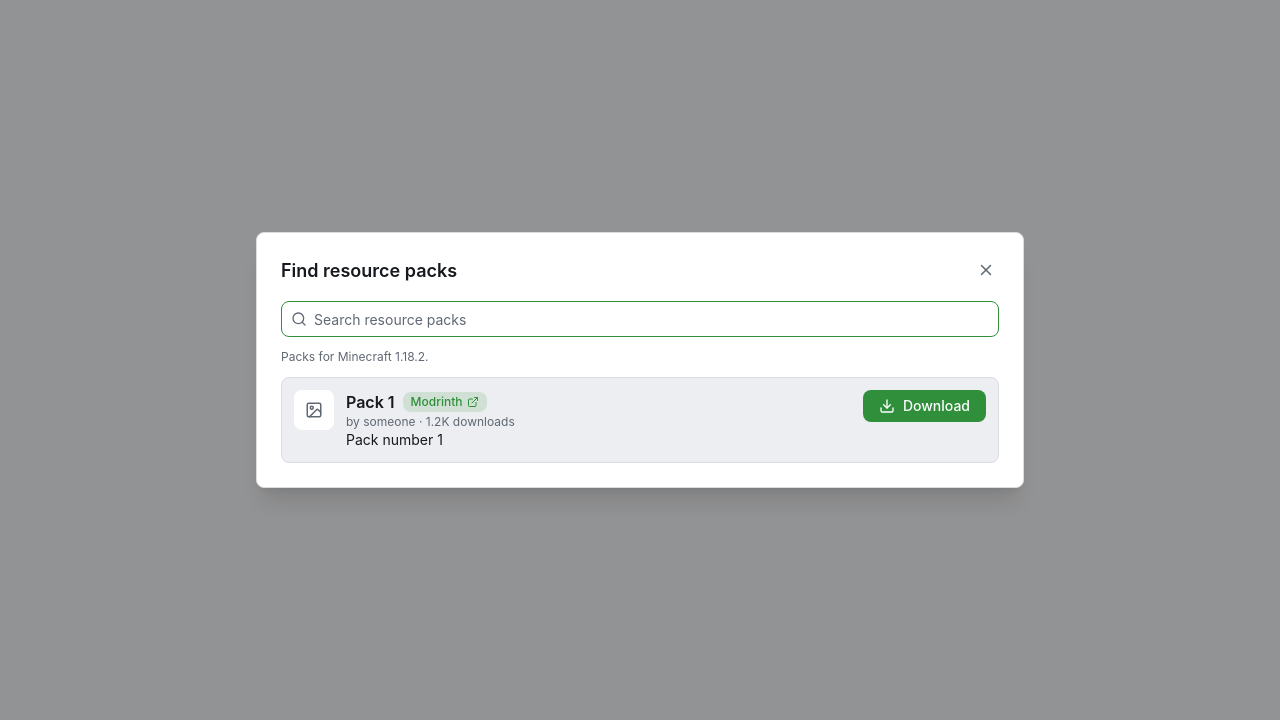
Test: FindPacksDialog › downloads a pack and shows what it needs
The width and height of the screenshot is (1280, 720).
Click the button with aria-label "Download Pack 1" at (924, 406), box [863,390,986,422]
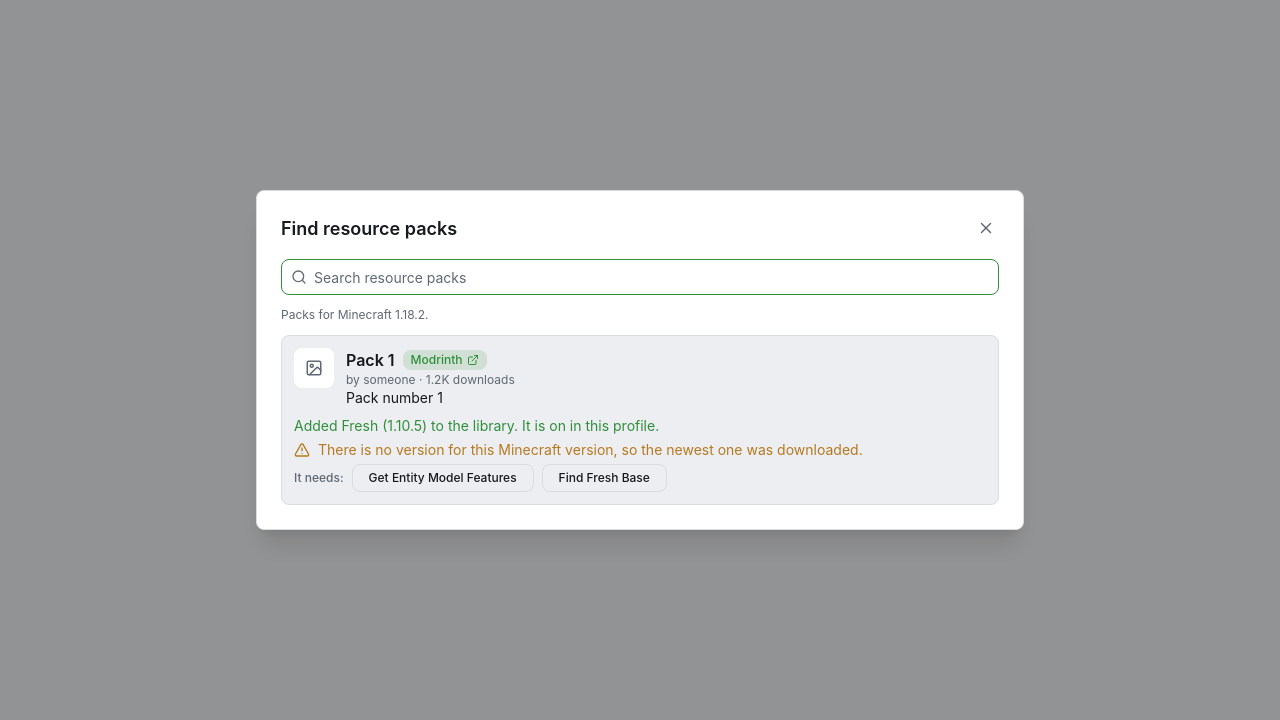
Expected: the text "Added Fresh (1.10.5) to the library" is shown, [294,417,518,434]
Expected: the text "newest one was downloaded" is shown, [318,441,863,458]
Expected: the button "Get Entity Model Features" is shown, [352,464,534,492]
Click the button "Find Fresh Base" at (604, 478), box [542,464,667,492]
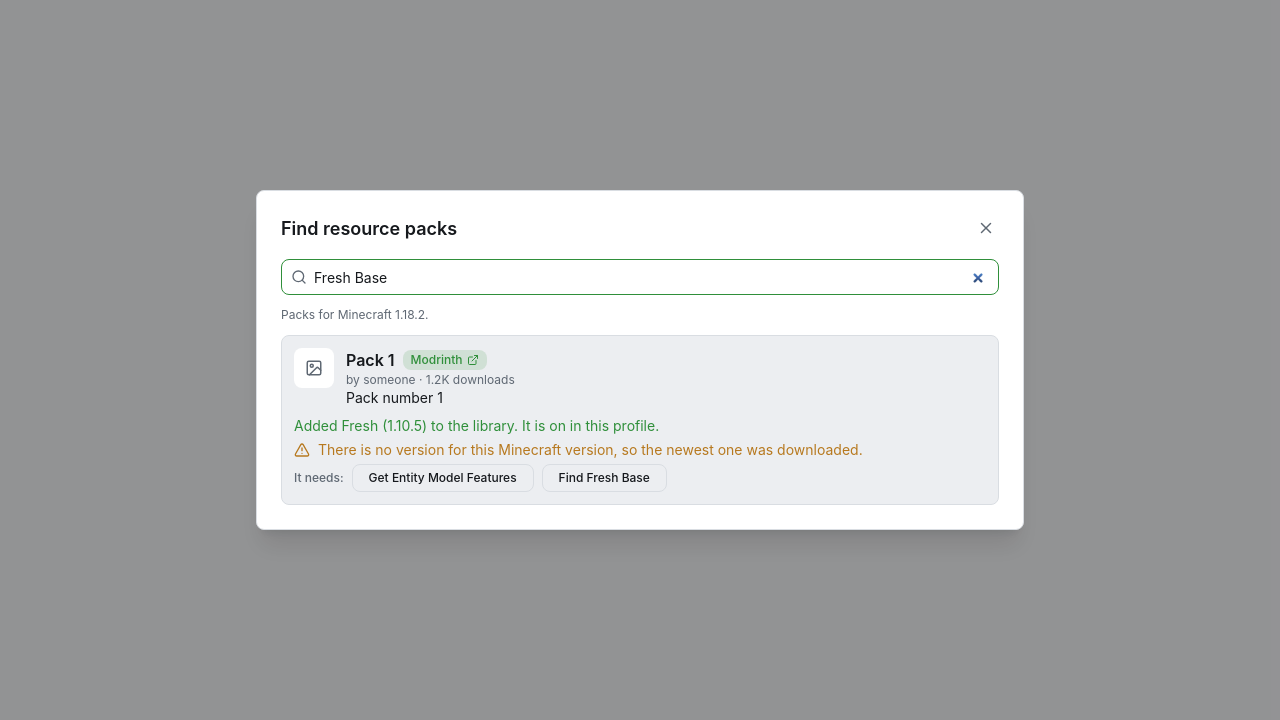
Expected: the search field holds "Fresh Base", [281,259,999,295]
